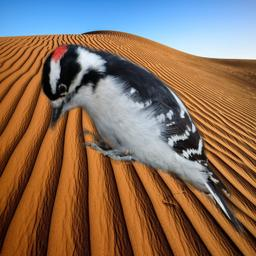Woodpecker: (38, 40, 248, 239)
